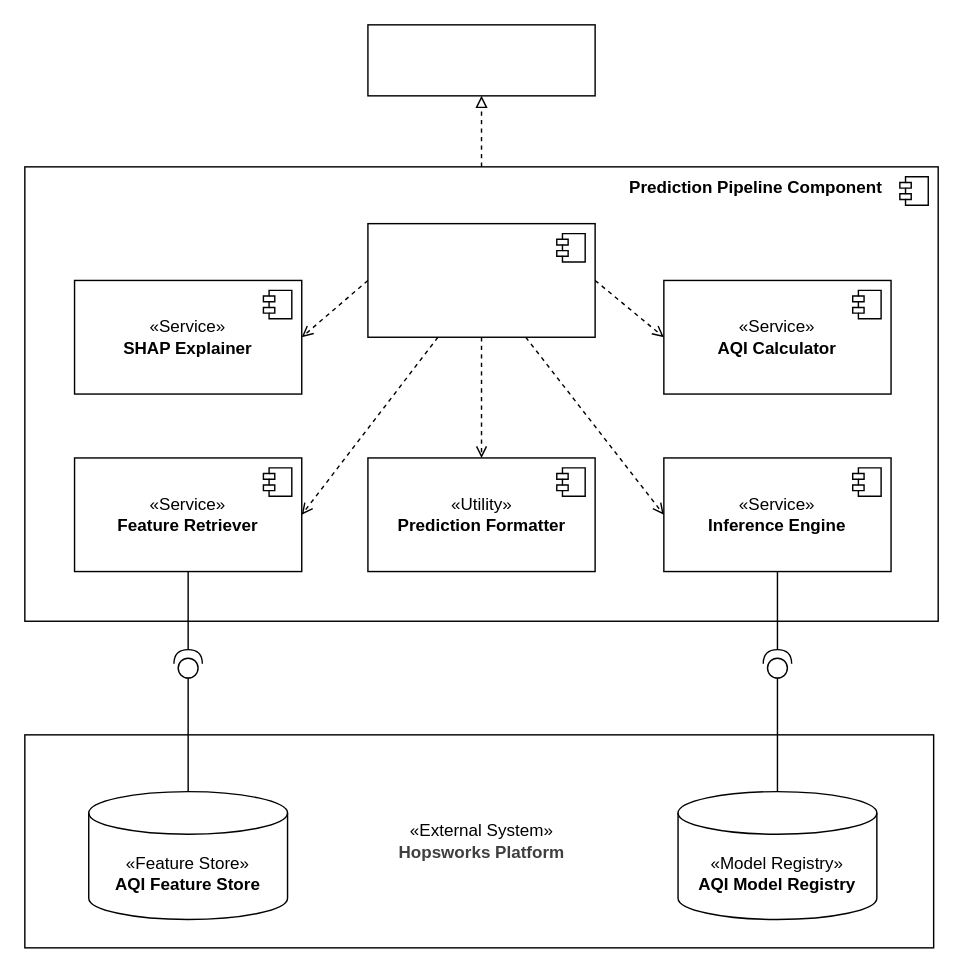
Image size: 964x973. Some labels were removed from this diagram. The centre of each missing label's shape, as x and y in pixels:
«Controller» Pipeline Orchestrator: the point at 481,279
«interface» Prediction Pipeline API: the point at 481,59
